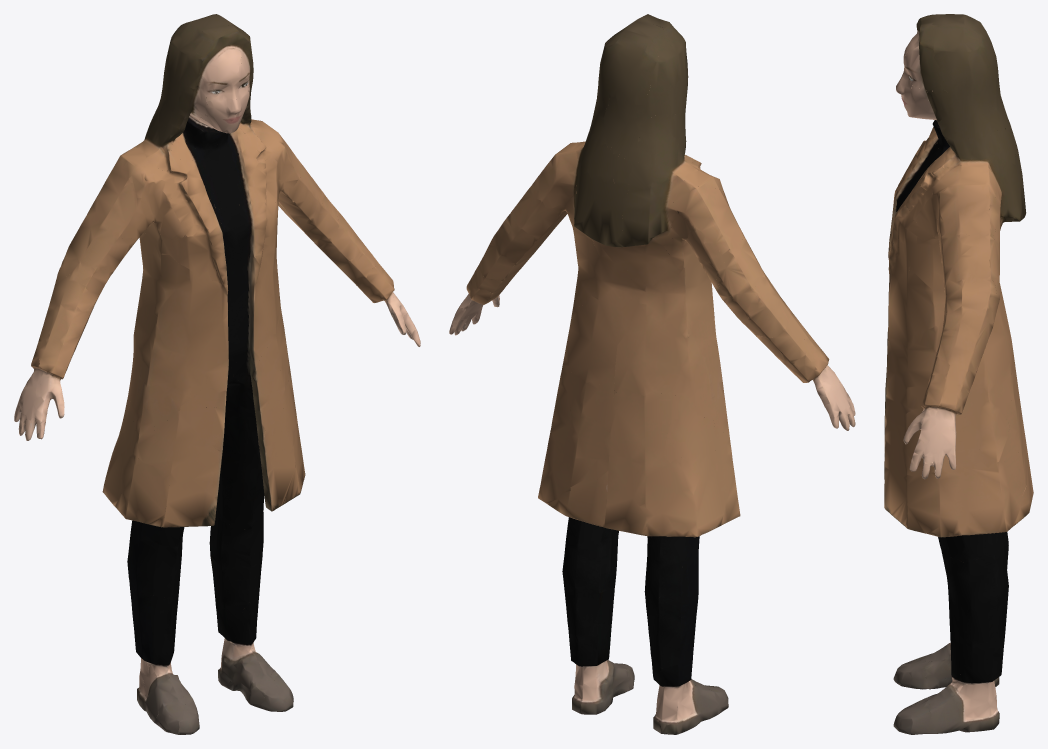
File: avatar_detallado.glb
3 renders of one model, left to right at view 1: azimuth 30°, elevation 25°; view 2: azimuth 150°, elevation 25°; view 3: azimuth 270°, elevation 25°, orthographic.
Parts seen in each view (by area): view 1: Mesh_0; view 2: Mesh_0; view 3: Mesh_0.
Boxes of the visible parts, x1,y1,x2,y2 form: Mesh_0: (14,14,420,734); Mesh_0: (449,14,855,734); Mesh_0: (884,14,1033,734).
Bounding box in the file's own units: 1.15 × 1.9 × 0.3743.
5 materials, 1 textured.
